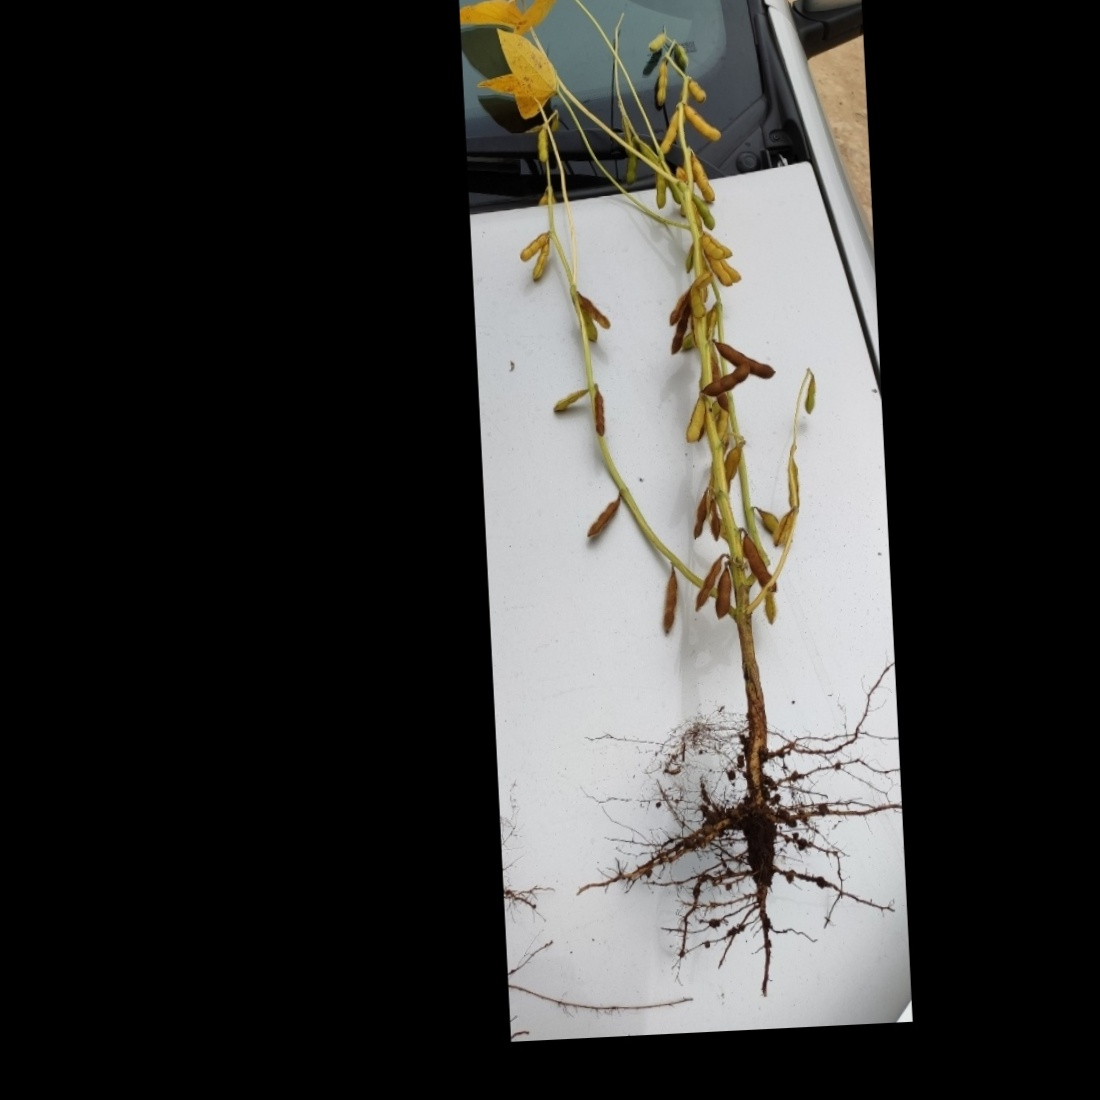pod: (708, 330, 776, 384), (672, 94, 729, 149), (734, 531, 778, 597), (650, 552, 681, 644), (695, 359, 754, 399), (584, 493, 626, 547), (708, 556, 741, 623), (682, 150, 716, 212), (548, 381, 601, 418), (514, 229, 556, 268), (651, 47, 672, 114), (527, 124, 554, 169), (683, 401, 710, 442), (802, 370, 824, 419), (593, 387, 612, 441), (694, 232, 727, 262), (674, 36, 692, 73)
soy: (508, 6, 862, 941)
